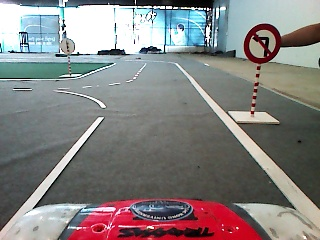ban_left: (244, 24, 282, 63)
